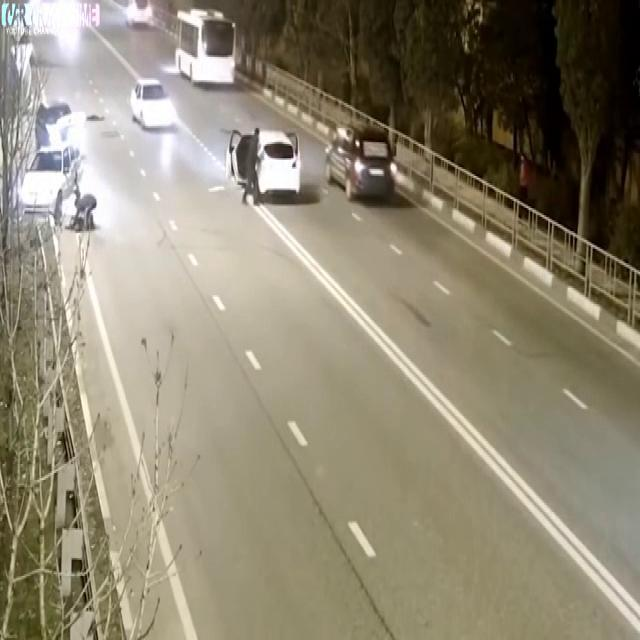normal: (232, 95, 403, 218)
single accident: (0, 62, 138, 240)
